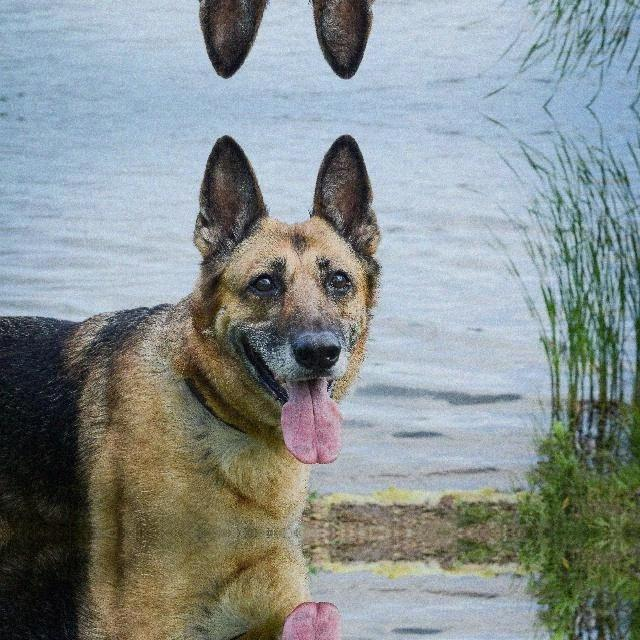dog: (0, 111, 398, 533), (0, 533, 398, 640), (0, 0, 398, 101)
